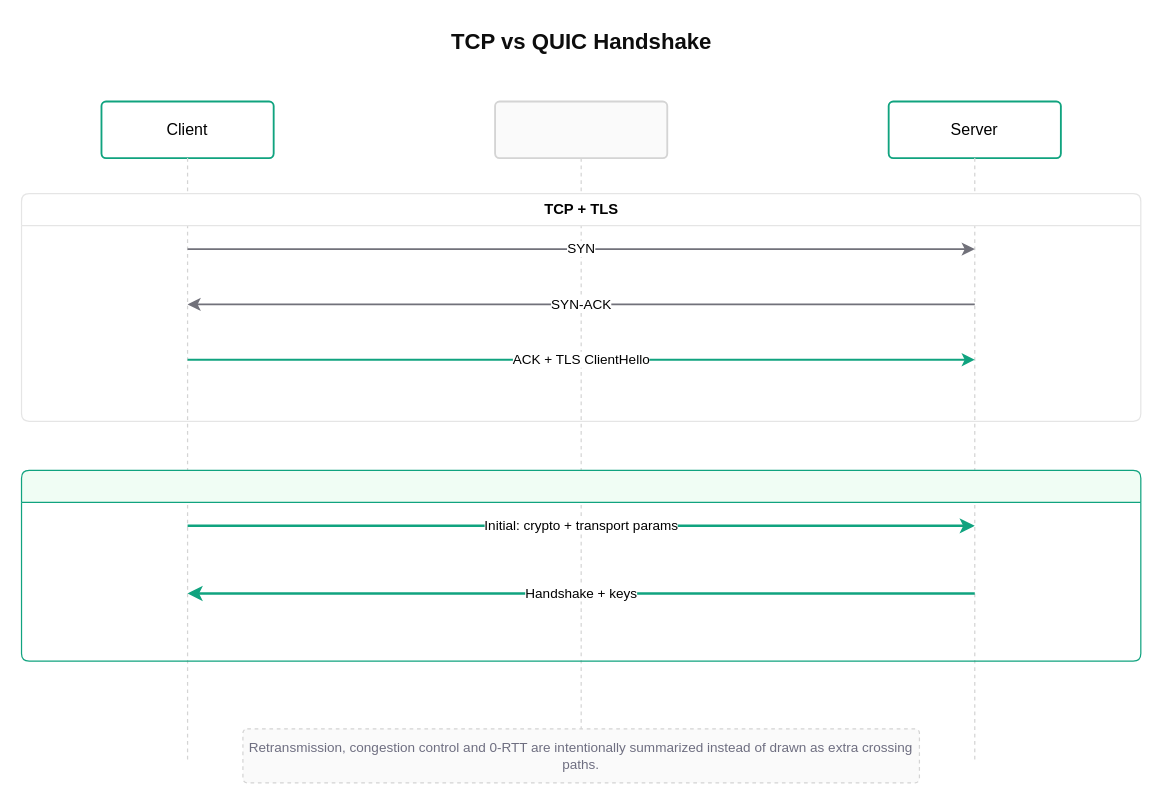
Image size: 1162x804. Some labels were removed from this diagram. The shapes that lost their labels are listed below. From the top down, each one's centre as x and y in pixels, then its label:
point 581,129: Network
point 580,565: QUIC 1-RTT
